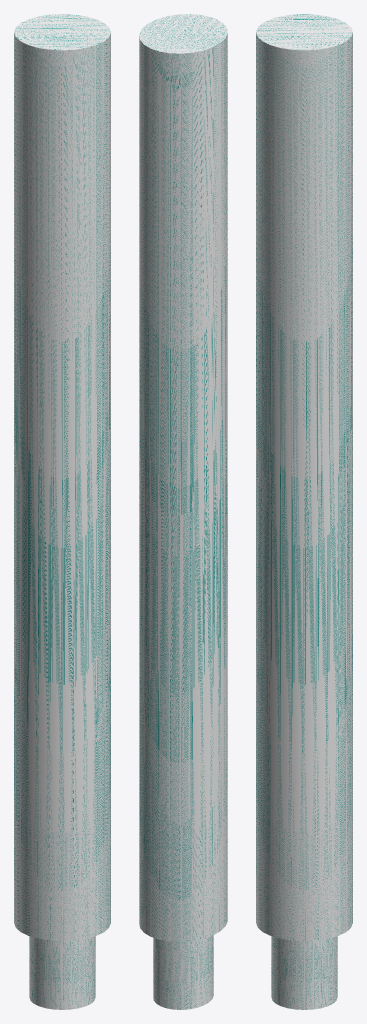
File: original-23.obj
3 views of the same model, side by side, from view 1: azimuth 90°, elevation 25°; view 2: azimuth 150°, elevation 25°; view 3: azimuth 270°, elevation 25° (orthographic).
Parts seen in each view (by area): view 1: Group12/mesh19/mesh19-geometry#mesh19-geometry; view 2: Group12/mesh19/mesh19-geometry#mesh19-geometry; view 3: Group12/mesh19/mesh19-geometry#mesh19-geometry.
Boxes of the visible parts, x1,y1,x2,y2 form: Group12/mesh19/mesh19-geometry#mesh19-geometry: (14, 14, 110, 1009); Group12/mesh19/mesh19-geometry#mesh19-geometry: (139, 14, 227, 1009); Group12/mesh19/mesh19-geometry#mesh19-geometry: (256, 14, 352, 1009).
Size of the model in its own units: 0.0474 by 0.5856 by 0.0532.
